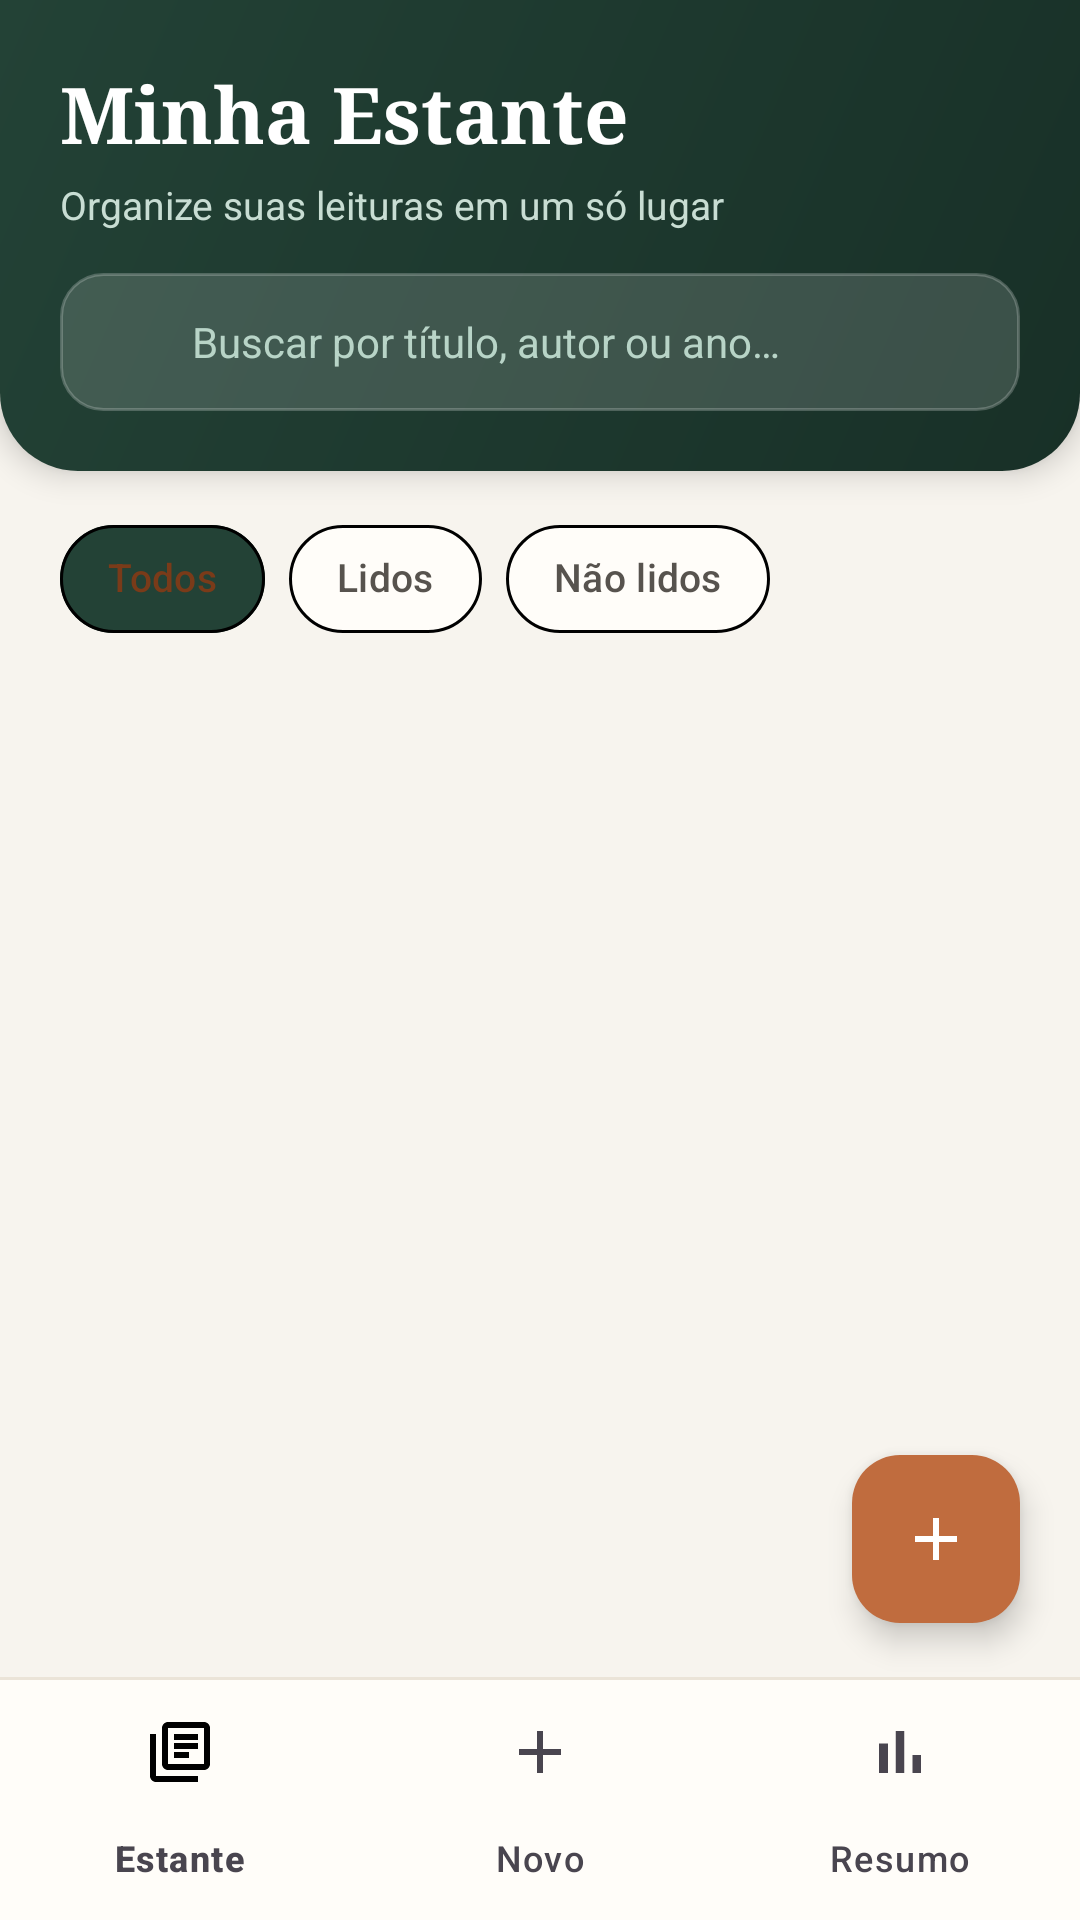

Named icons in this screenshot (1080*1920) and their centers, point (x, y):
Adicionar novo livro: point (936, 1539)
